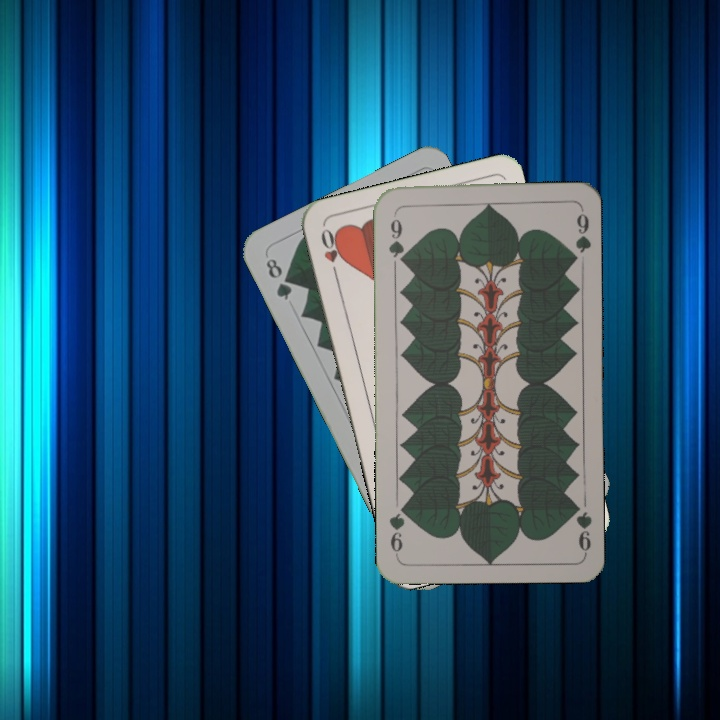G8: (261, 254, 295, 303)
G9: (568, 497, 595, 556), (384, 209, 407, 268)
HO: (316, 224, 344, 282)
